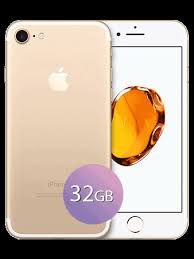iphone7: (2, 16, 114, 239), (105, 16, 192, 241)
